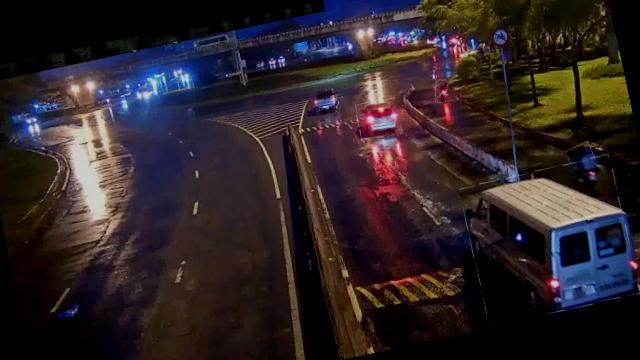Bike: (567, 140, 605, 190), (432, 78, 450, 103)
Bus: (459, 155, 640, 326)
Car: (354, 96, 403, 140)
